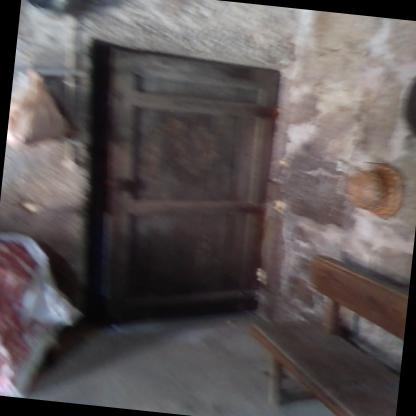closed: (61, 22, 307, 344)
